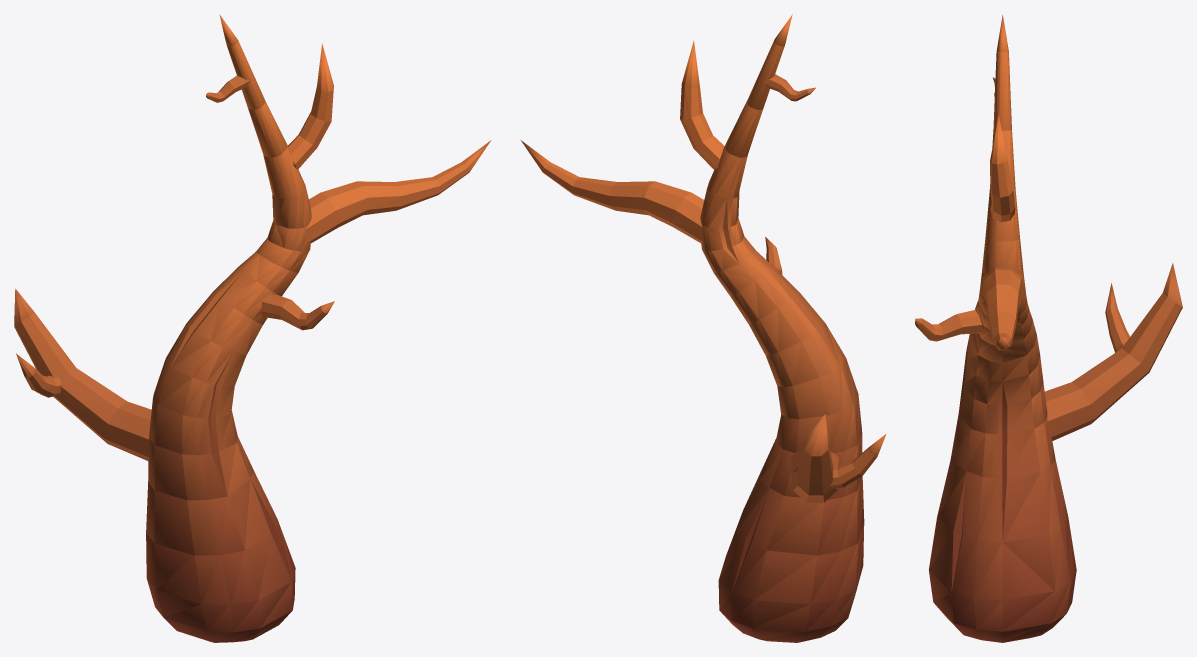
The model's file is kf_tree_bare_1_c.fbx.
3 renders of one model, left to right at view 1: azimuth 30°, elevation 25°; view 2: azimuth 150°, elevation 25°; view 3: azimuth 270°, elevation 25°, orthographic.
Visible parts, largest first — view 1: kf_tree_bare_1_c_LOD0; view 2: kf_tree_bare_1_c_LOD0; view 3: kf_tree_bare_1_c_LOD0.
Part boxes in pixels (x1=…): kf_tree_bare_1_c_LOD0: x1=14, y1=14, x2=491, y2=642; kf_tree_bare_1_c_LOD0: x1=521, y1=14, x2=886, y2=642; kf_tree_bare_1_c_LOD0: x1=915, y1=15, x2=1182, y2=642.
Size of what is drawn, in the model's own units: 4.3 by 6.04 by 2.39.
Materials: 1 (1 with a texture image).
